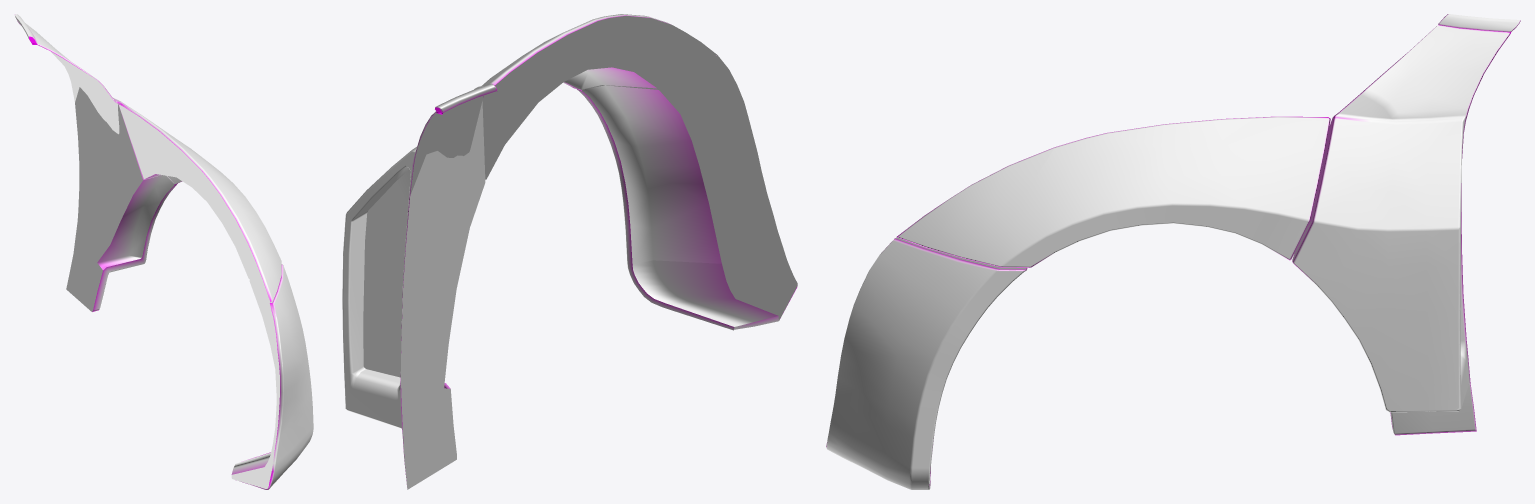
Rendered from Car_Mini_CountrymanJCW_2017_FenderFL_SetC_AltC.fbx.
The picture shows the model from 3 angles, left to right: view 1: azimuth 30°, elevation 25°; view 2: azimuth 150°, elevation 25°; view 3: azimuth 270°, elevation 25°; orthographic projection. The views are drawn at different scales.
Visible parts, largest first — view 1: FenderFL 6; view 2: FenderFL 6; view 3: FenderFL 6.
Boxes of the visible parts, box(x1,y1,x2,y2) form: FenderFL 6: box(14, 14, 313, 489); FenderFL 6: box(342, 14, 797, 489); FenderFL 6: box(826, 14, 1520, 489).
Bounding box in the file's own units: 0.281 × 0.8307 × 1.22.
